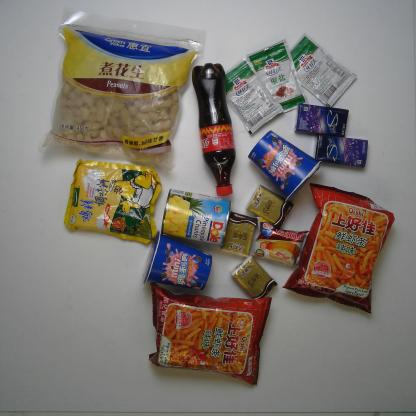Canned Food: (160, 185, 233, 250)
Dessert: (245, 127, 323, 203), (137, 226, 217, 292), (248, 214, 310, 270)
Dried Food: (35, 7, 207, 175)
Drink: (189, 59, 238, 197)
Gum: (309, 132, 371, 171), (293, 101, 351, 138)
Puffed Food: (281, 179, 398, 316), (139, 280, 275, 388)
Seasoner: (62, 154, 163, 245), (214, 54, 286, 138), (242, 37, 312, 121), (285, 31, 359, 107)
Tissue: (227, 253, 279, 305), (245, 186, 296, 233), (216, 209, 262, 259)
